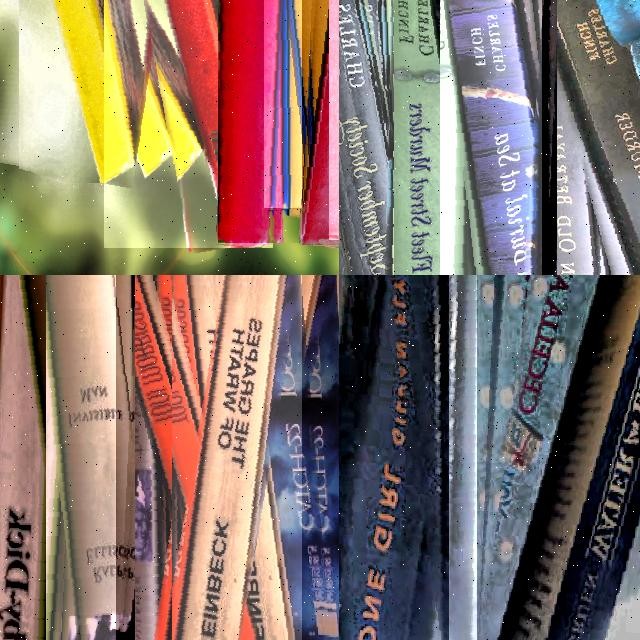Books: (500, 275, 640, 640), (339, 275, 466, 640), (135, 275, 253, 640), (49, 275, 158, 640), (180, 275, 289, 640), (450, 275, 548, 640), (449, 0, 565, 275), (129, 275, 210, 640), (168, 0, 273, 247), (339, 0, 421, 275), (558, 0, 640, 275), (278, 275, 339, 640), (394, 0, 466, 275), (547, 0, 613, 275), (58, 0, 142, 182), (219, 0, 275, 243), (290, 0, 339, 208)
